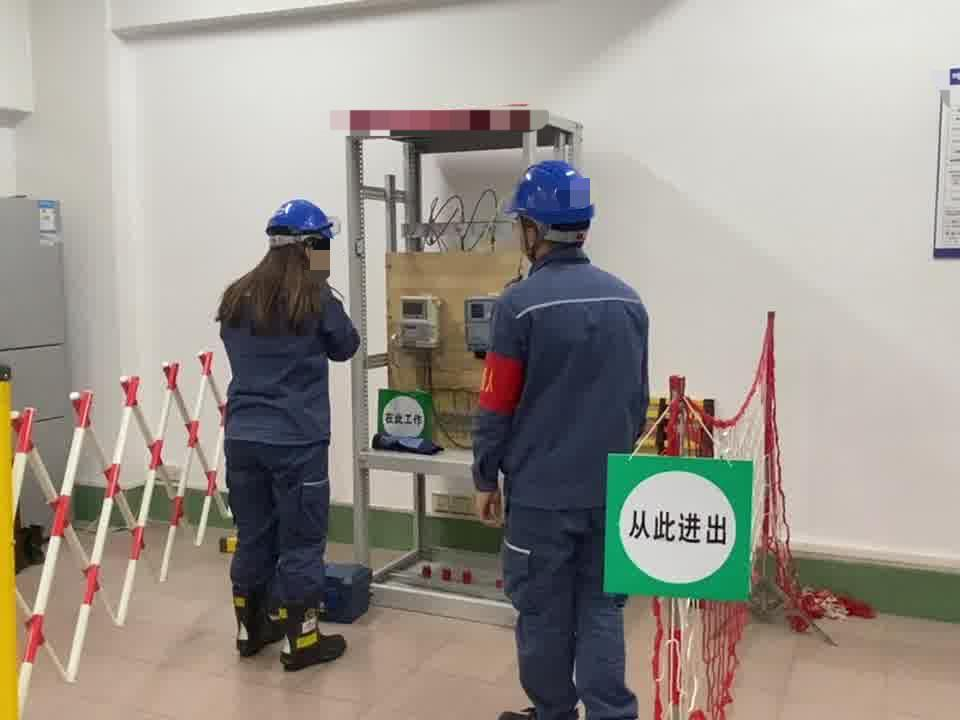halt: (506, 158, 599, 256)
inear: (520, 220, 551, 258)
